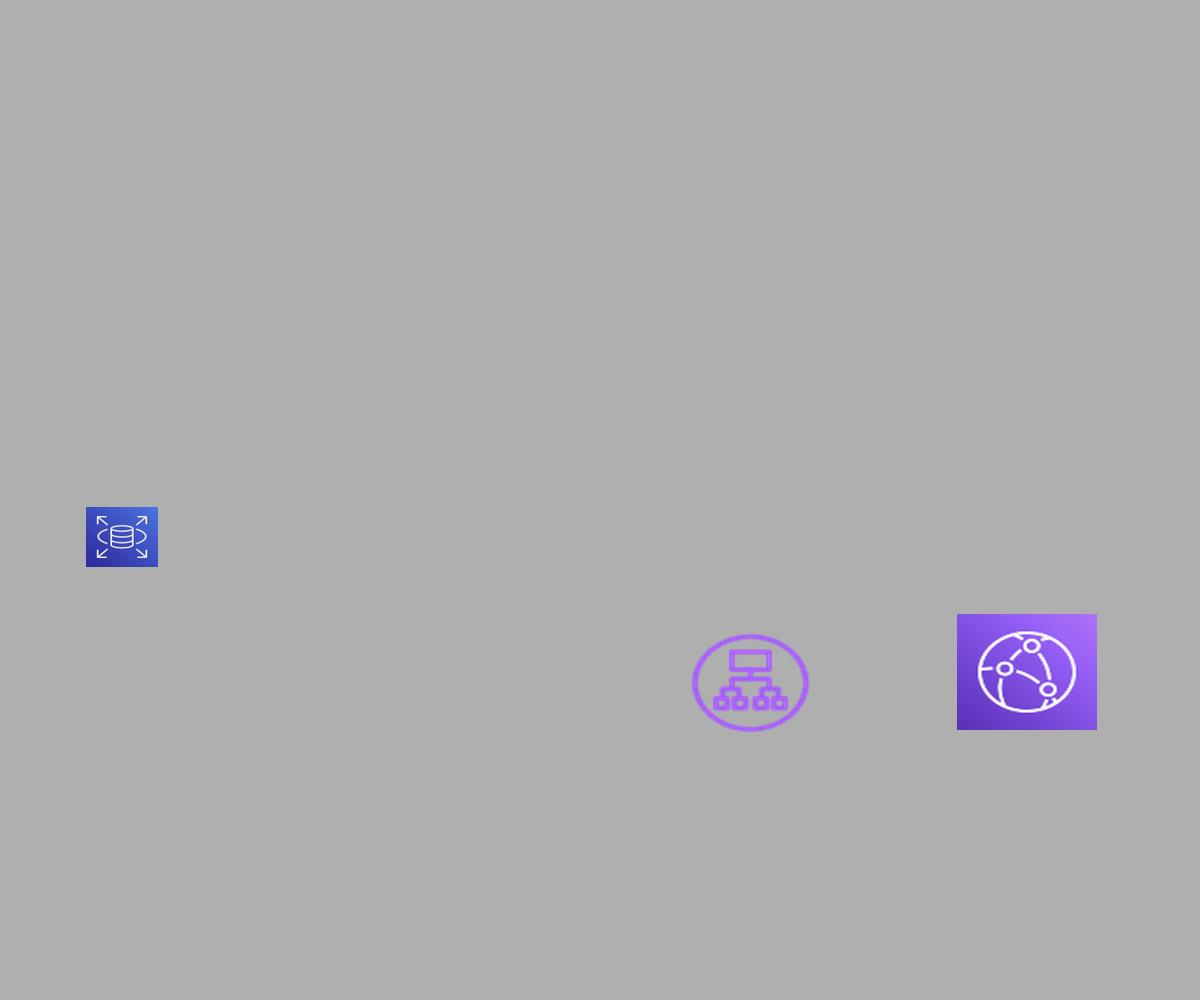AWS-CloudFront: (957, 614, 1097, 730)
AWS-RDS: (86, 507, 158, 567)
AWS-Res_Elastic-Load-Balancing_Application-Load-Balancer: (687, 630, 814, 736)
